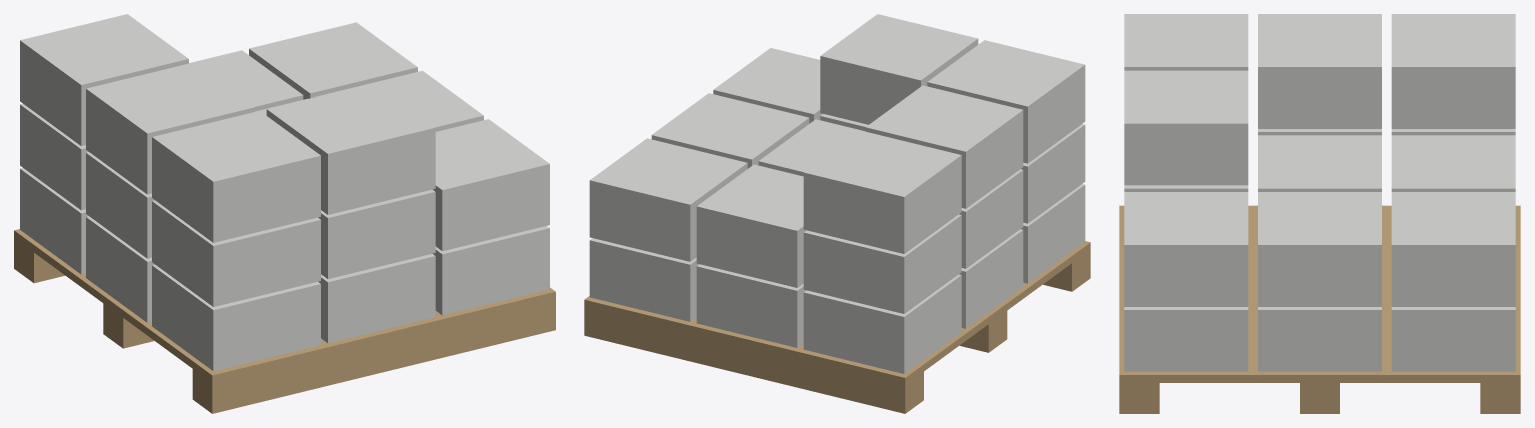
File: pallet_mp_22.glb
The picture shows the model from 3 angles, left to right: view 1: azimuth 30°, elevation 25°; view 2: azimuth 150°, elevation 25°; view 3: azimuth 270°, elevation 25°; orthographic projection. The views are drawn at different scales.
Parts seen in each view (by area): view 1: PalletMP; view 2: PalletMP; view 3: PalletMP.
Boxes of the visible parts, <box> form: PalletMP: <box>14,14,555,413</box>; PalletMP: <box>584,14,1090,413</box>; PalletMP: <box>1119,14,1520,413</box>.
Size of the model in its own units: 1 by 0.6386 by 1.
